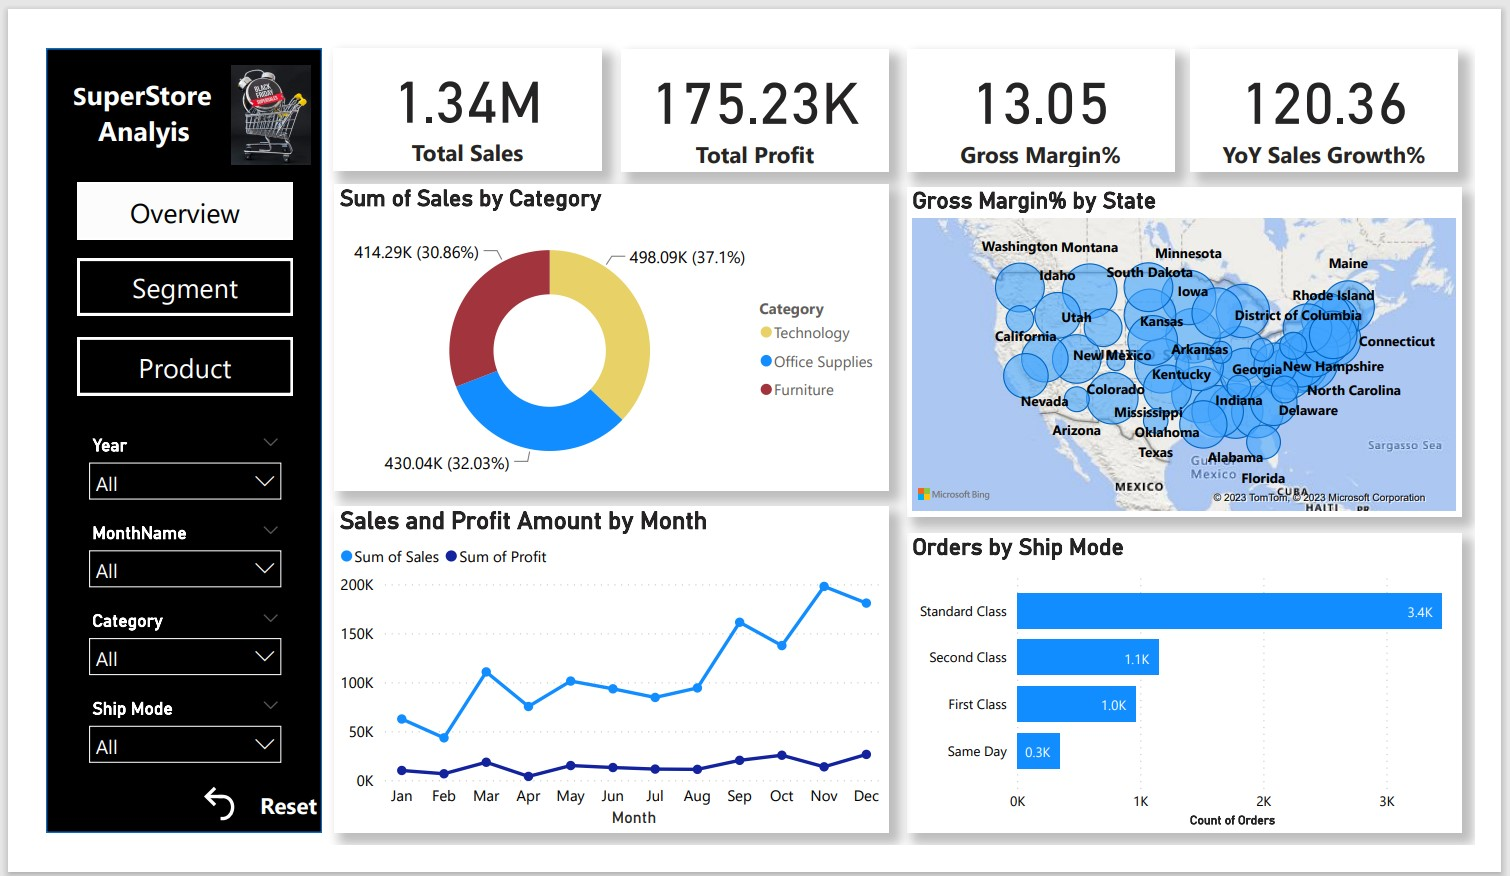

Layout of this report page (visuals, bound fields, positions):
{"tool":"powerbi","page":{"name":"Overview","canvas":[1280,720],"ordinal":0},"visuals":[{"type":"shape","title":"SUPERSTORE","box":[9.8,12.2,245.7,696.8],"z":0},{"type":"textbox","box":[29.3,30.6,135.7,79.5],"z":1000},{"type":"image","box":[165,22,90.5,97.8],"z":2000},{"type":"actionButton","box":[37.9,130.8,190.7,51.3],"z":3000},{"type":"actionButton","box":[37.9,199.3,190.7,50.1],"z":4000},{"type":"actionButton","box":[37.9,268.9,190.7,51.3],"z":5000},{"type":"slicer","fields":{"Values":["Orders.Year"]},"box":[37.9,349.6,190.7,68.5],"z":6000},{"type":"slicer","fields":{"Values":["Orders.MonthName"]},"box":[37.9,427.8,190.7,78.2],"z":7000},{"type":"slicer","fields":{"Values":["Orders.Category"]},"box":[37.9,506.1,190.7,78.2],"z":8000},{"type":"slicer","fields":{"Values":["Orders.Ship Mode"]},"box":[37.9,584.3,190.7,78.2],"z":9000},{"type":"card","fields":{"Values":["Orders.Total Sales"]},"box":[265.3,12.2,238.4,108.8],"z":10000},{"type":"card","fields":{"Values":["Orders.Total Profit"]},"box":[520.7,13.4,238.4,108.8],"z":11000},{"type":"card","fields":{"Values":["Orders.Gross Margin%"]},"box":[775,13.4,238.4,108.8],"z":12000},{"type":"card","fields":{"Values":["Orders.YoY Sales Growth%"]},"box":[1026.8,13.4,238.4,108.8],"z":13000},{"type":"donutChart","fields":{"Category":["Orders.Category"],"Y":["Sum(Orders.Sales)"]},"box":[266.2,132.5,492.5,272.5],"z":14000},{"type":"map","fields":{"Category":["Orders.State"],"Size":["Orders.Gross Margin%"]},"box":[775,135,492.5,292.5],"z":15000},{"type":"barChart","title":"Orders by Ship Mode","fields":{"Category":["Orders.Ship Mode"],"Y":["CountNonNull(Orders.Order ID)"]},"box":[775,442.5,492.5,266.2],"z":16000},{"type":"lineChart","title":"Sales and Profit Amount by Month","fields":{"Category":["Orders.MonthName"],"Y":["Sum(Orders.Sales)","Sum(Orders.Profit)"]},"box":[266.2,418.8,492.5,290],"z":17000},{"type":"actionButton","title":"Reset","box":[144.2,662.5,111.2,40.3],"z":20000}]}

Visuals, with their boxes on the page's 1280x720 design canvas (x1, y1, x2, y2). These are canvas units, not pixel positions in the 1510x876 screenshot, which may show the page scaled, cropped or inside an application window:
"SUPERSTORE" shape: x1=10, y1=12, x2=256, y2=709
textbox: x1=29, y1=31, x2=165, y2=110
image: x1=165, y1=22, x2=256, y2=120
actionButton: x1=38, y1=131, x2=229, y2=182
actionButton: x1=38, y1=199, x2=229, y2=249
actionButton: x1=38, y1=269, x2=229, y2=320
slicer - Orders.Year: x1=38, y1=350, x2=229, y2=418
slicer - Orders.MonthName: x1=38, y1=428, x2=229, y2=506
slicer - Orders.Category: x1=38, y1=506, x2=229, y2=584
slicer - Orders.Ship Mode: x1=38, y1=584, x2=229, y2=662
card - Orders.Total Sales: x1=265, y1=12, x2=504, y2=121
card - Orders.Total Profit: x1=521, y1=13, x2=759, y2=122
card - Orders.Gross Margin%: x1=775, y1=13, x2=1013, y2=122
card - Orders.YoY Sales Growth%: x1=1027, y1=13, x2=1265, y2=122
donutChart - Orders.Category x Sum(Orders.Sales): x1=266, y1=132, x2=759, y2=405
map - Orders.State x Orders.Gross Margin%: x1=775, y1=135, x2=1268, y2=428
"Orders by Ship Mode" barChart: x1=775, y1=442, x2=1268, y2=709
"Sales and Profit Amount by Month" lineChart: x1=266, y1=419, x2=759, y2=709
"Reset" actionButton: x1=144, y1=662, x2=255, y2=703
